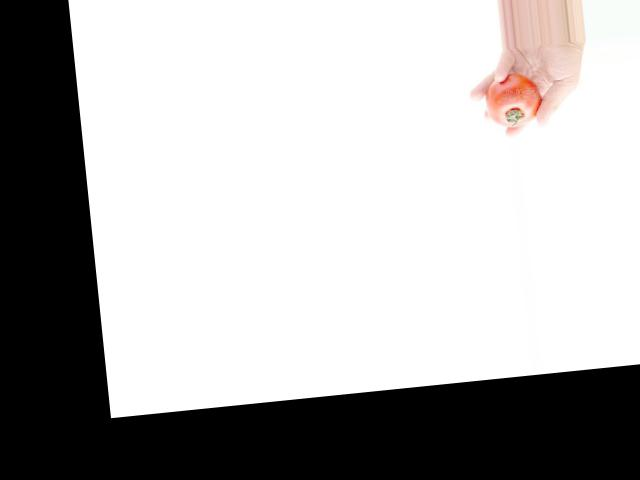tomato: (482, 71, 543, 129)
